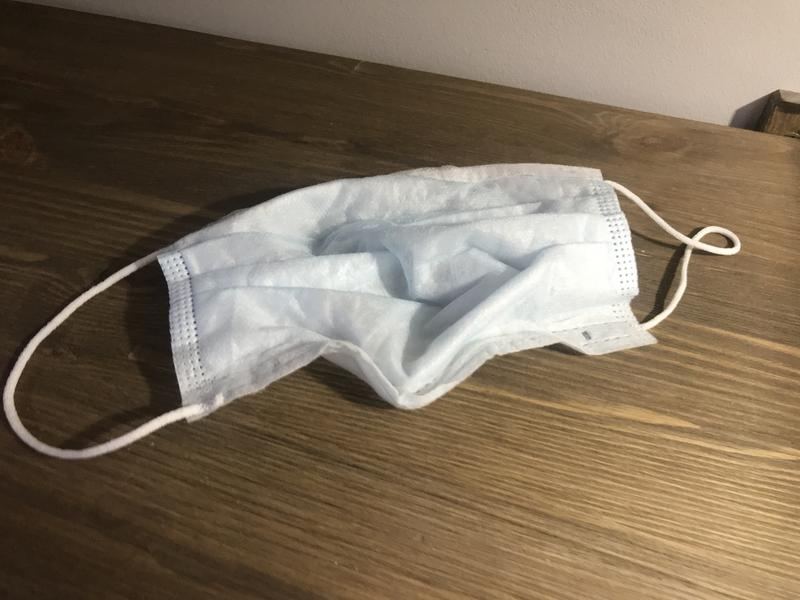medical_mask: (4, 163, 741, 465)
